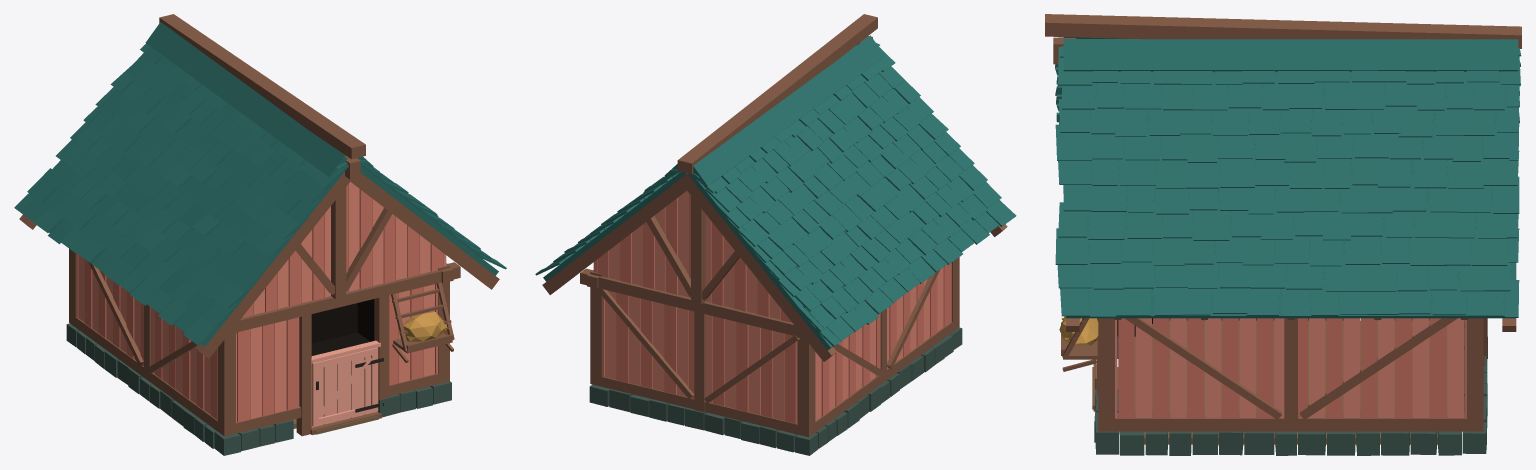
The model's file is horse-shelter.glb.
3 views of the same model, side by side, from view 1: azimuth 30°, elevation 25°; view 2: azimuth 150°, elevation 25°; view 3: azimuth 270°, elevation 25° (orthographic). The views are drawn at different scales.
Visible parts, largest first — view 1: roof_shingles, timber_frame, plank_walls_dark, plank_walls, roof_timbers, stone_footing, door, interior_shadow, hay_rack, hay; view 2: roof_shingles, timber_frame, plank_walls_dark, plank_walls, roof_timbers, stone_footing; view 3: roof_shingles, plank_walls, plank_walls_dark, timber_frame, stone_footing, roof_timbers, floor, hay_rack, hay.
Boxes of the visible parts, bbox=[...] form: roof_shingles: bbox=[14, 22, 506, 346]; timber_frame: bbox=[69, 187, 460, 436]; plank_walls_dark: bbox=[76, 184, 442, 422]; plank_walls: bbox=[78, 182, 446, 422]; roof_timbers: bbox=[19, 14, 499, 358]; stone_footing: bbox=[66, 323, 451, 455]; door: bbox=[310, 340, 380, 427]; interior_shadow: bbox=[311, 299, 374, 355]; hay_rack: bbox=[391, 282, 454, 362]; hay: bbox=[398, 312, 449, 341]; roof_shingles: bbox=[535, 35, 1016, 350]; timber_frame: bbox=[580, 196, 959, 437]; plank_walls_dark: bbox=[593, 193, 950, 423]; plank_walls: bbox=[605, 191, 951, 423]; roof_timbers: bbox=[542, 14, 1007, 361]; stone_footing: bbox=[589, 327, 962, 455]; roof_shingles: bbox=[1055, 37, 1521, 318]; plank_walls: bbox=[1115, 318, 1463, 418]; plank_walls_dark: bbox=[1118, 318, 1466, 418]; timber_frame: bbox=[1093, 318, 1487, 431]; stone_footing: bbox=[1094, 318, 1487, 455]; roof_timbers: bbox=[1045, 14, 1521, 331]; floor: bbox=[1092, 320, 1447, 444]; hay_rack: bbox=[1061, 318, 1097, 371]; hay: bbox=[1059, 316, 1098, 345].
Bounding box in the file's own units: 6.43 × 5.85 × 6.88.
